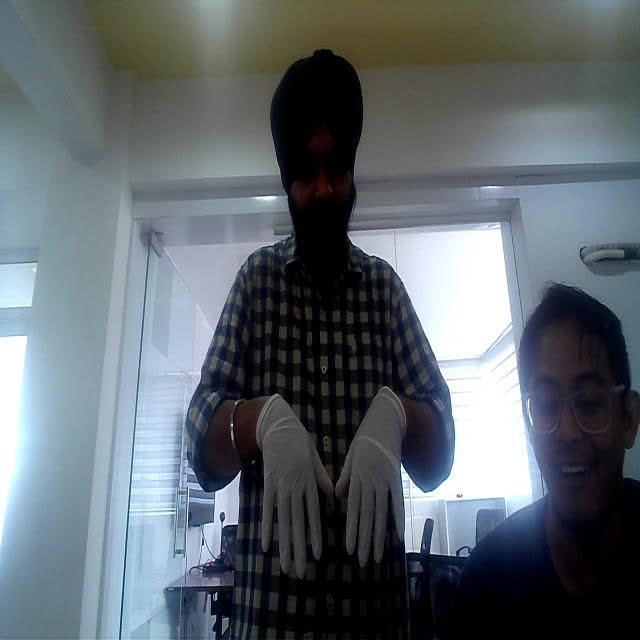with_gloves: (338, 396, 444, 573), (252, 388, 334, 578), (335, 452, 410, 453)
